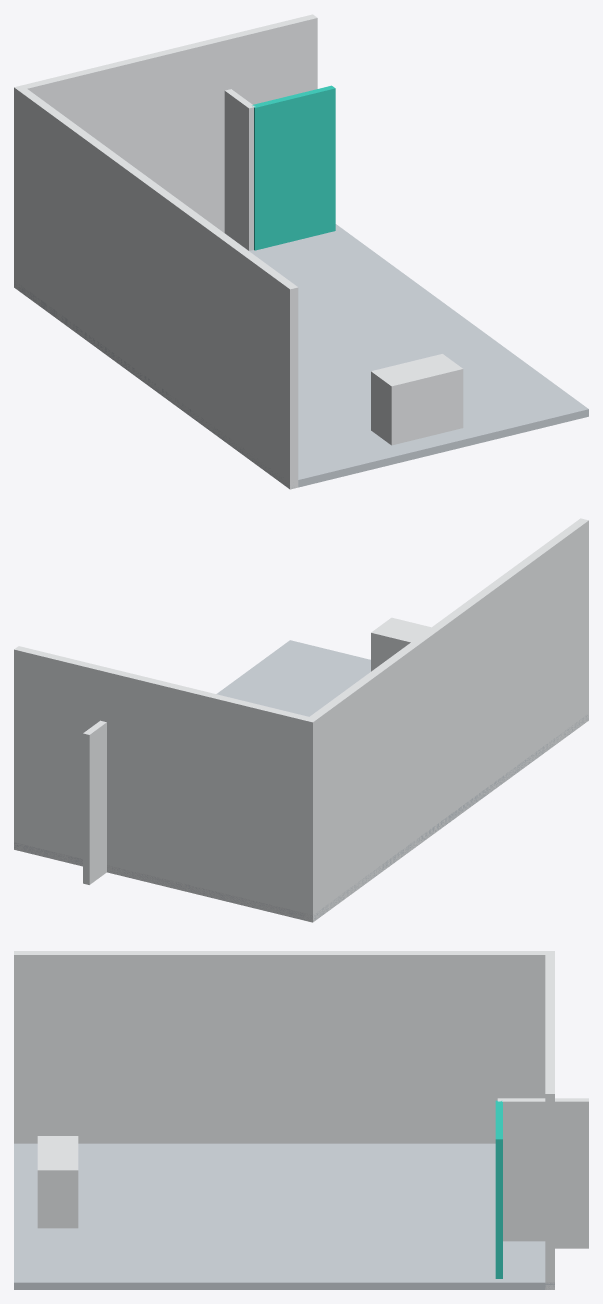
3 renders of one model, top to bottom at view 1: azimuth 30°, elevation 25°; view 2: azimuth 150°, elevation 25°; view 3: azimuth 270°, elevation 25°, orthographic. The views are drawn at different scales.
Visible parts, largest first — view 1: Exhibition Booth Concept; view 2: Exhibition Booth Concept; view 3: Exhibition Booth Concept.
Part boxes in pixels (bbox=[...]): Exhibition Booth Concept: bbox=[14, 14, 588, 489]; Exhibition Booth Concept: bbox=[14, 518, 588, 922]; Exhibition Booth Concept: bbox=[14, 951, 588, 1289].
Bounding box in the file's own units: 5 × 3.2 × 8.51.
